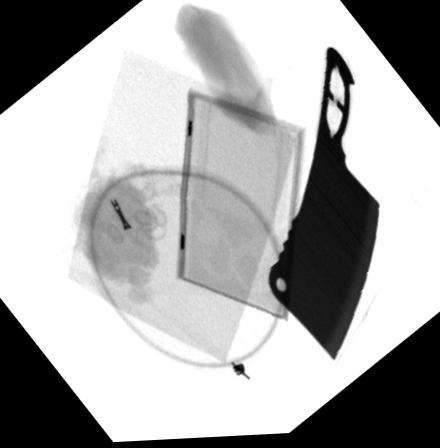Knife: (266, 49, 380, 367)
